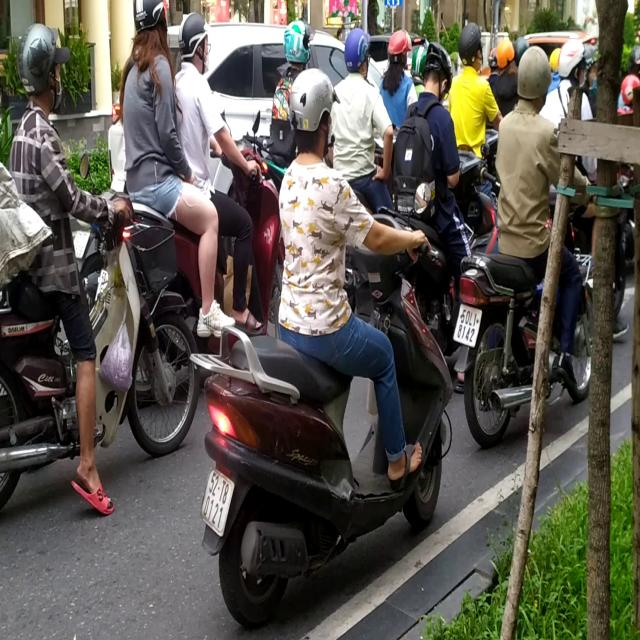bien_trang: (202, 468, 238, 538), (458, 296, 487, 362)
